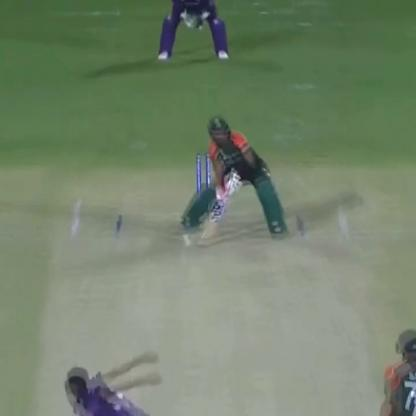ball: (182, 241, 192, 246), (179, 234, 188, 238)
bat: (197, 182, 237, 247)
pitch: (35, 202, 381, 416)
